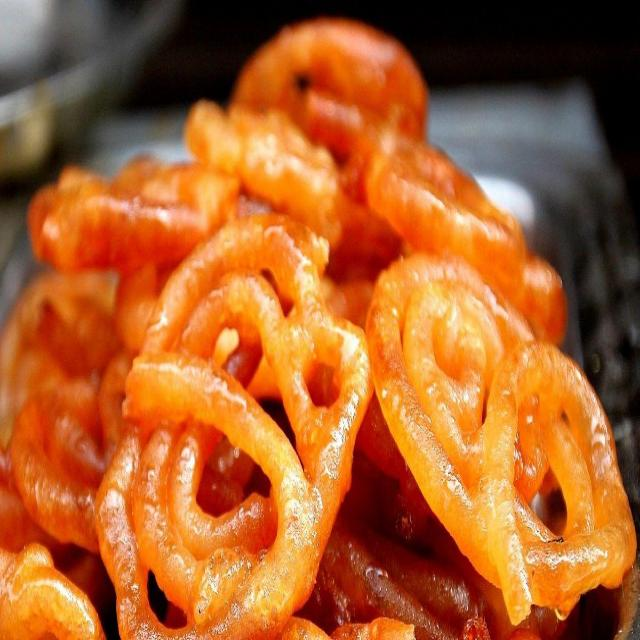jalebi: (7, 56, 640, 640)
